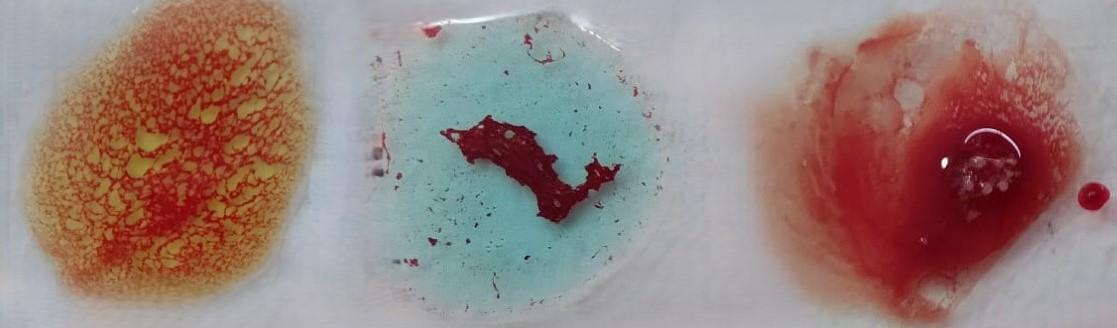A: (384, 16, 655, 315)
B: (24, 12, 295, 304)
D: (804, 32, 1079, 328)
